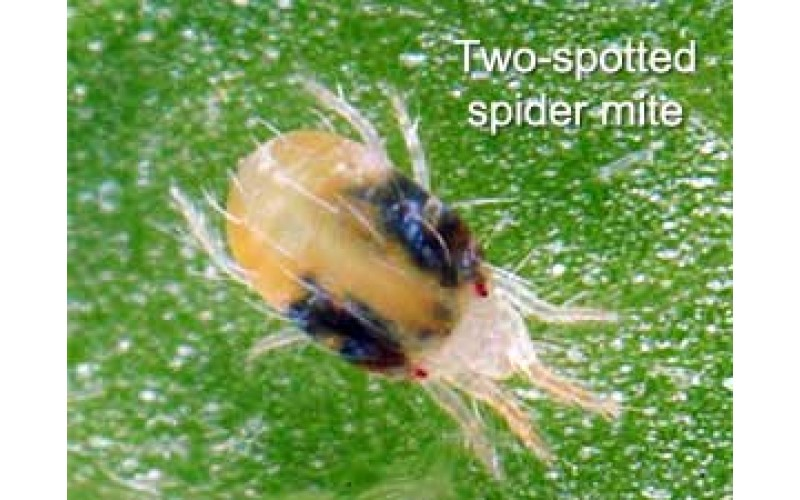Mites: (165, 95, 611, 478)
